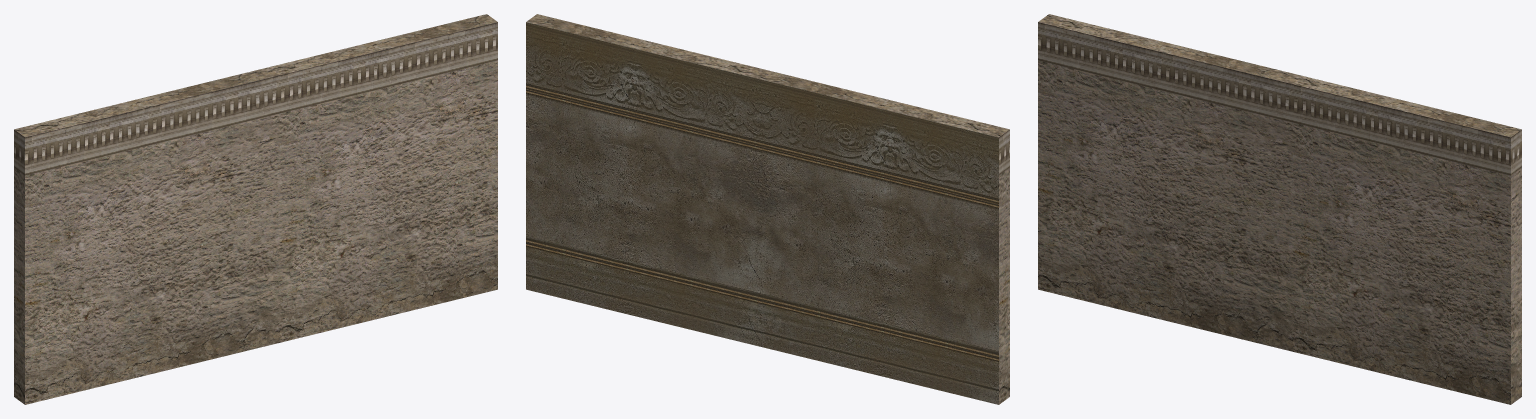
The model's file is SH3D_Sparta_WallAlcove2.obj.
3 views of the same model, side by side, from view 1: azimuth 30°, elevation 25°; view 2: azimuth 150°, elevation 25°; view 3: azimuth 330°, elevation 25° (orthographic).
Parts seen in each view (by area): view 1: SH3D_Sparta_ExtWall0; view 2: SH3D_Sparta_IntWall0, SH3D_Sparta_ExtWall0; view 3: SH3D_Sparta_ExtWall0.
Boxes of the visible parts, x1,y1,x2,y2 form: SH3D_Sparta_ExtWall0: [14, 14, 497, 404]; SH3D_Sparta_IntWall0: [526, 22, 998, 404]; SH3D_Sparta_ExtWall0: [526, 14, 1009, 404]; SH3D_Sparta_ExtWall0: [1038, 14, 1521, 404].
Bounding box in the file's own units: 7.4 × 4 × 0.3.
